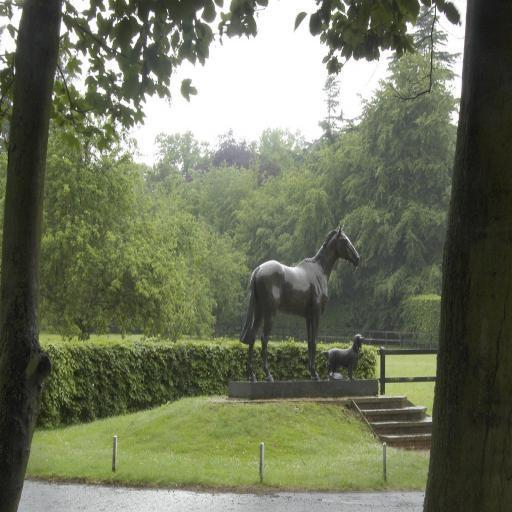horse: (238, 224, 358, 388)
